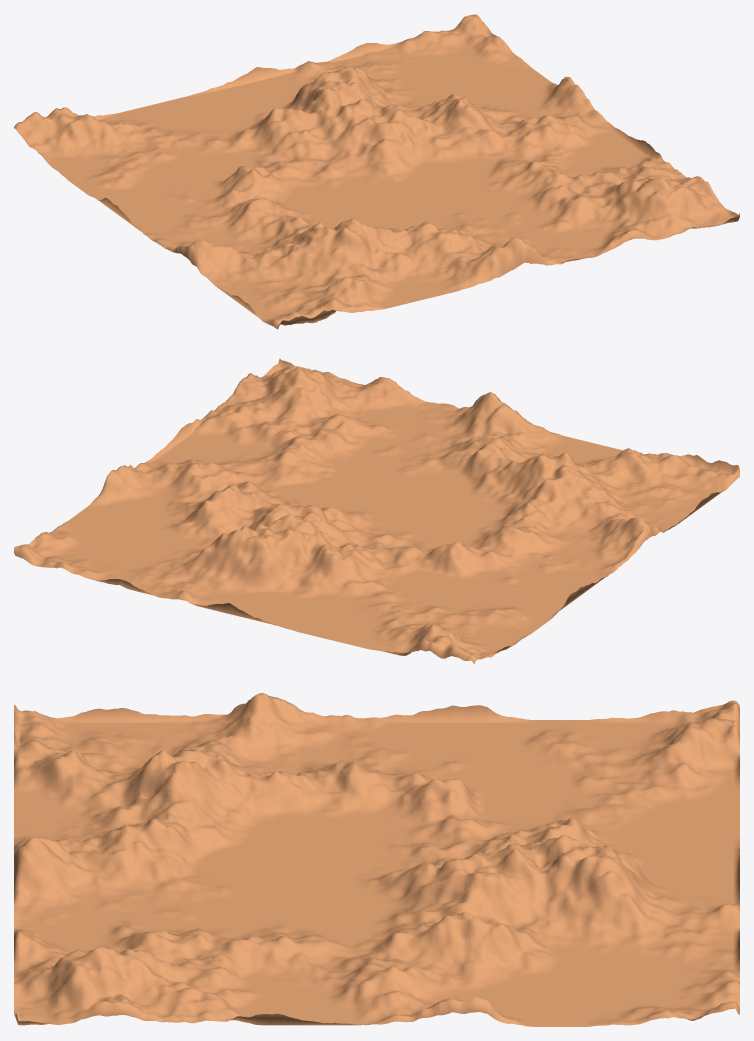
File: landscape_smooth.glb
3 renders of one model, top to bottom at view 1: azimuth 30°, elevation 25°; view 2: azimuth 150°, elevation 25°; view 3: azimuth 270°, elevation 25°, orthographic. The views are drawn at different scales.
Visible parts, largest first — view 1: Plane.001; view 2: Plane.001; view 3: Plane.001.
Boxes of the visible parts, x1,y1,x2,y2 form: Plane.001: (14, 14, 739, 329); Plane.001: (14, 358, 739, 664); Plane.001: (14, 693, 739, 1026).
Bounding box in the file's own units: 1000 × 80.62 × 1000.
